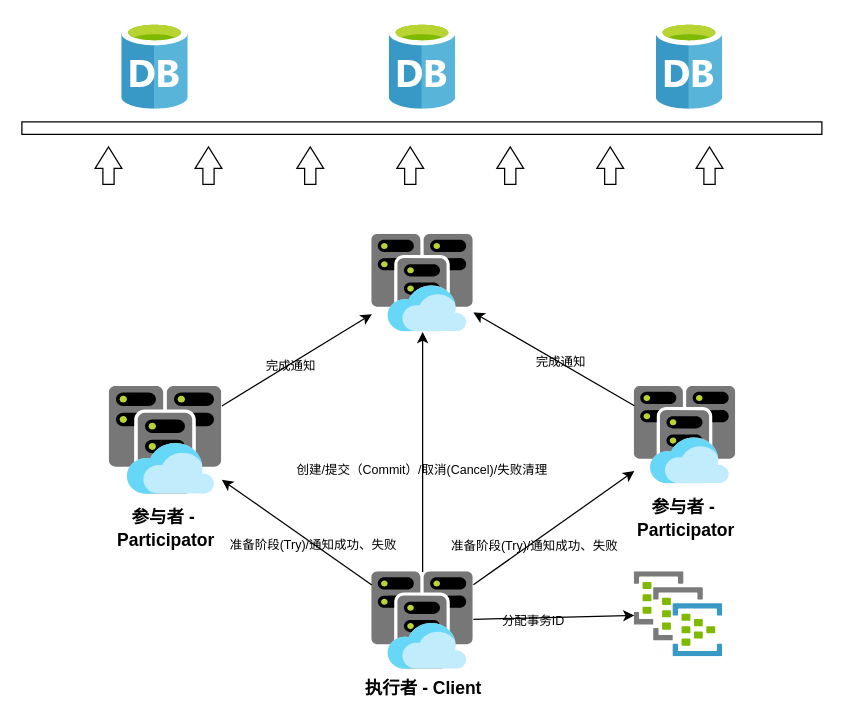
This 844x720 diagram has some shape labels left out. The shapes that lost their labels are listed below. From the top down, each one's box as (x1, y1, x2, y2) in pixels, then its label:
(371, 234, 473, 331): 协调者 - Coordinator
(634, 571, 722, 656): 事务ID分配器
